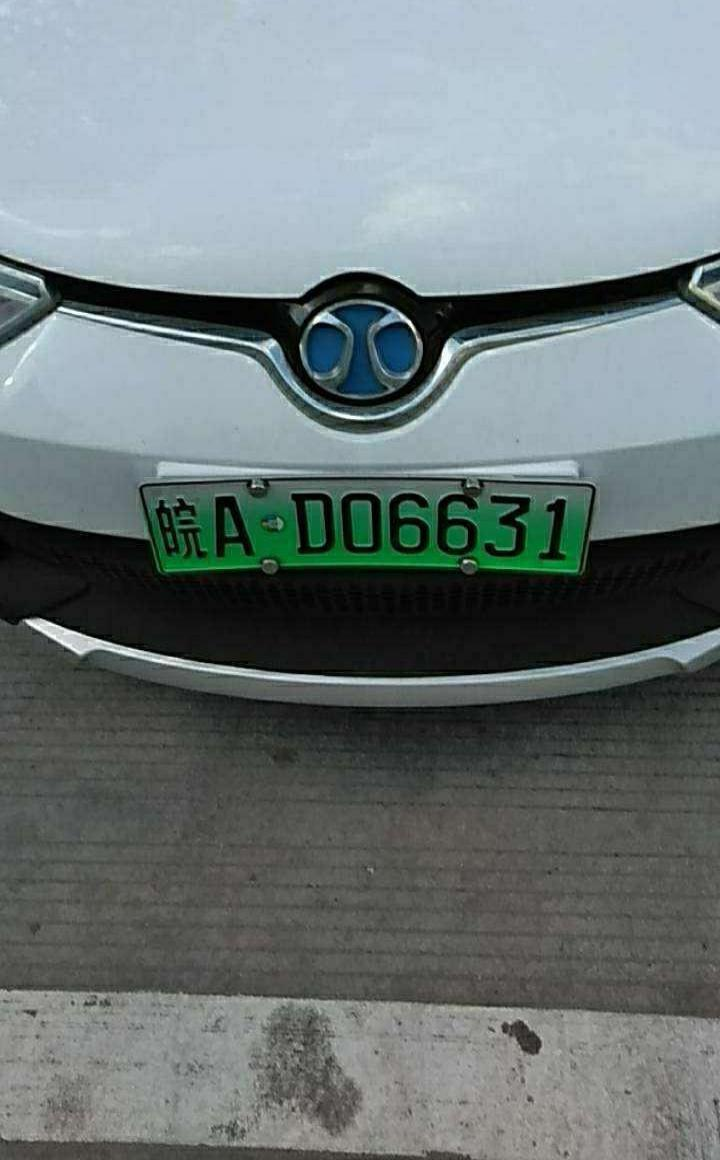car_id: (139, 483, 592, 580)
